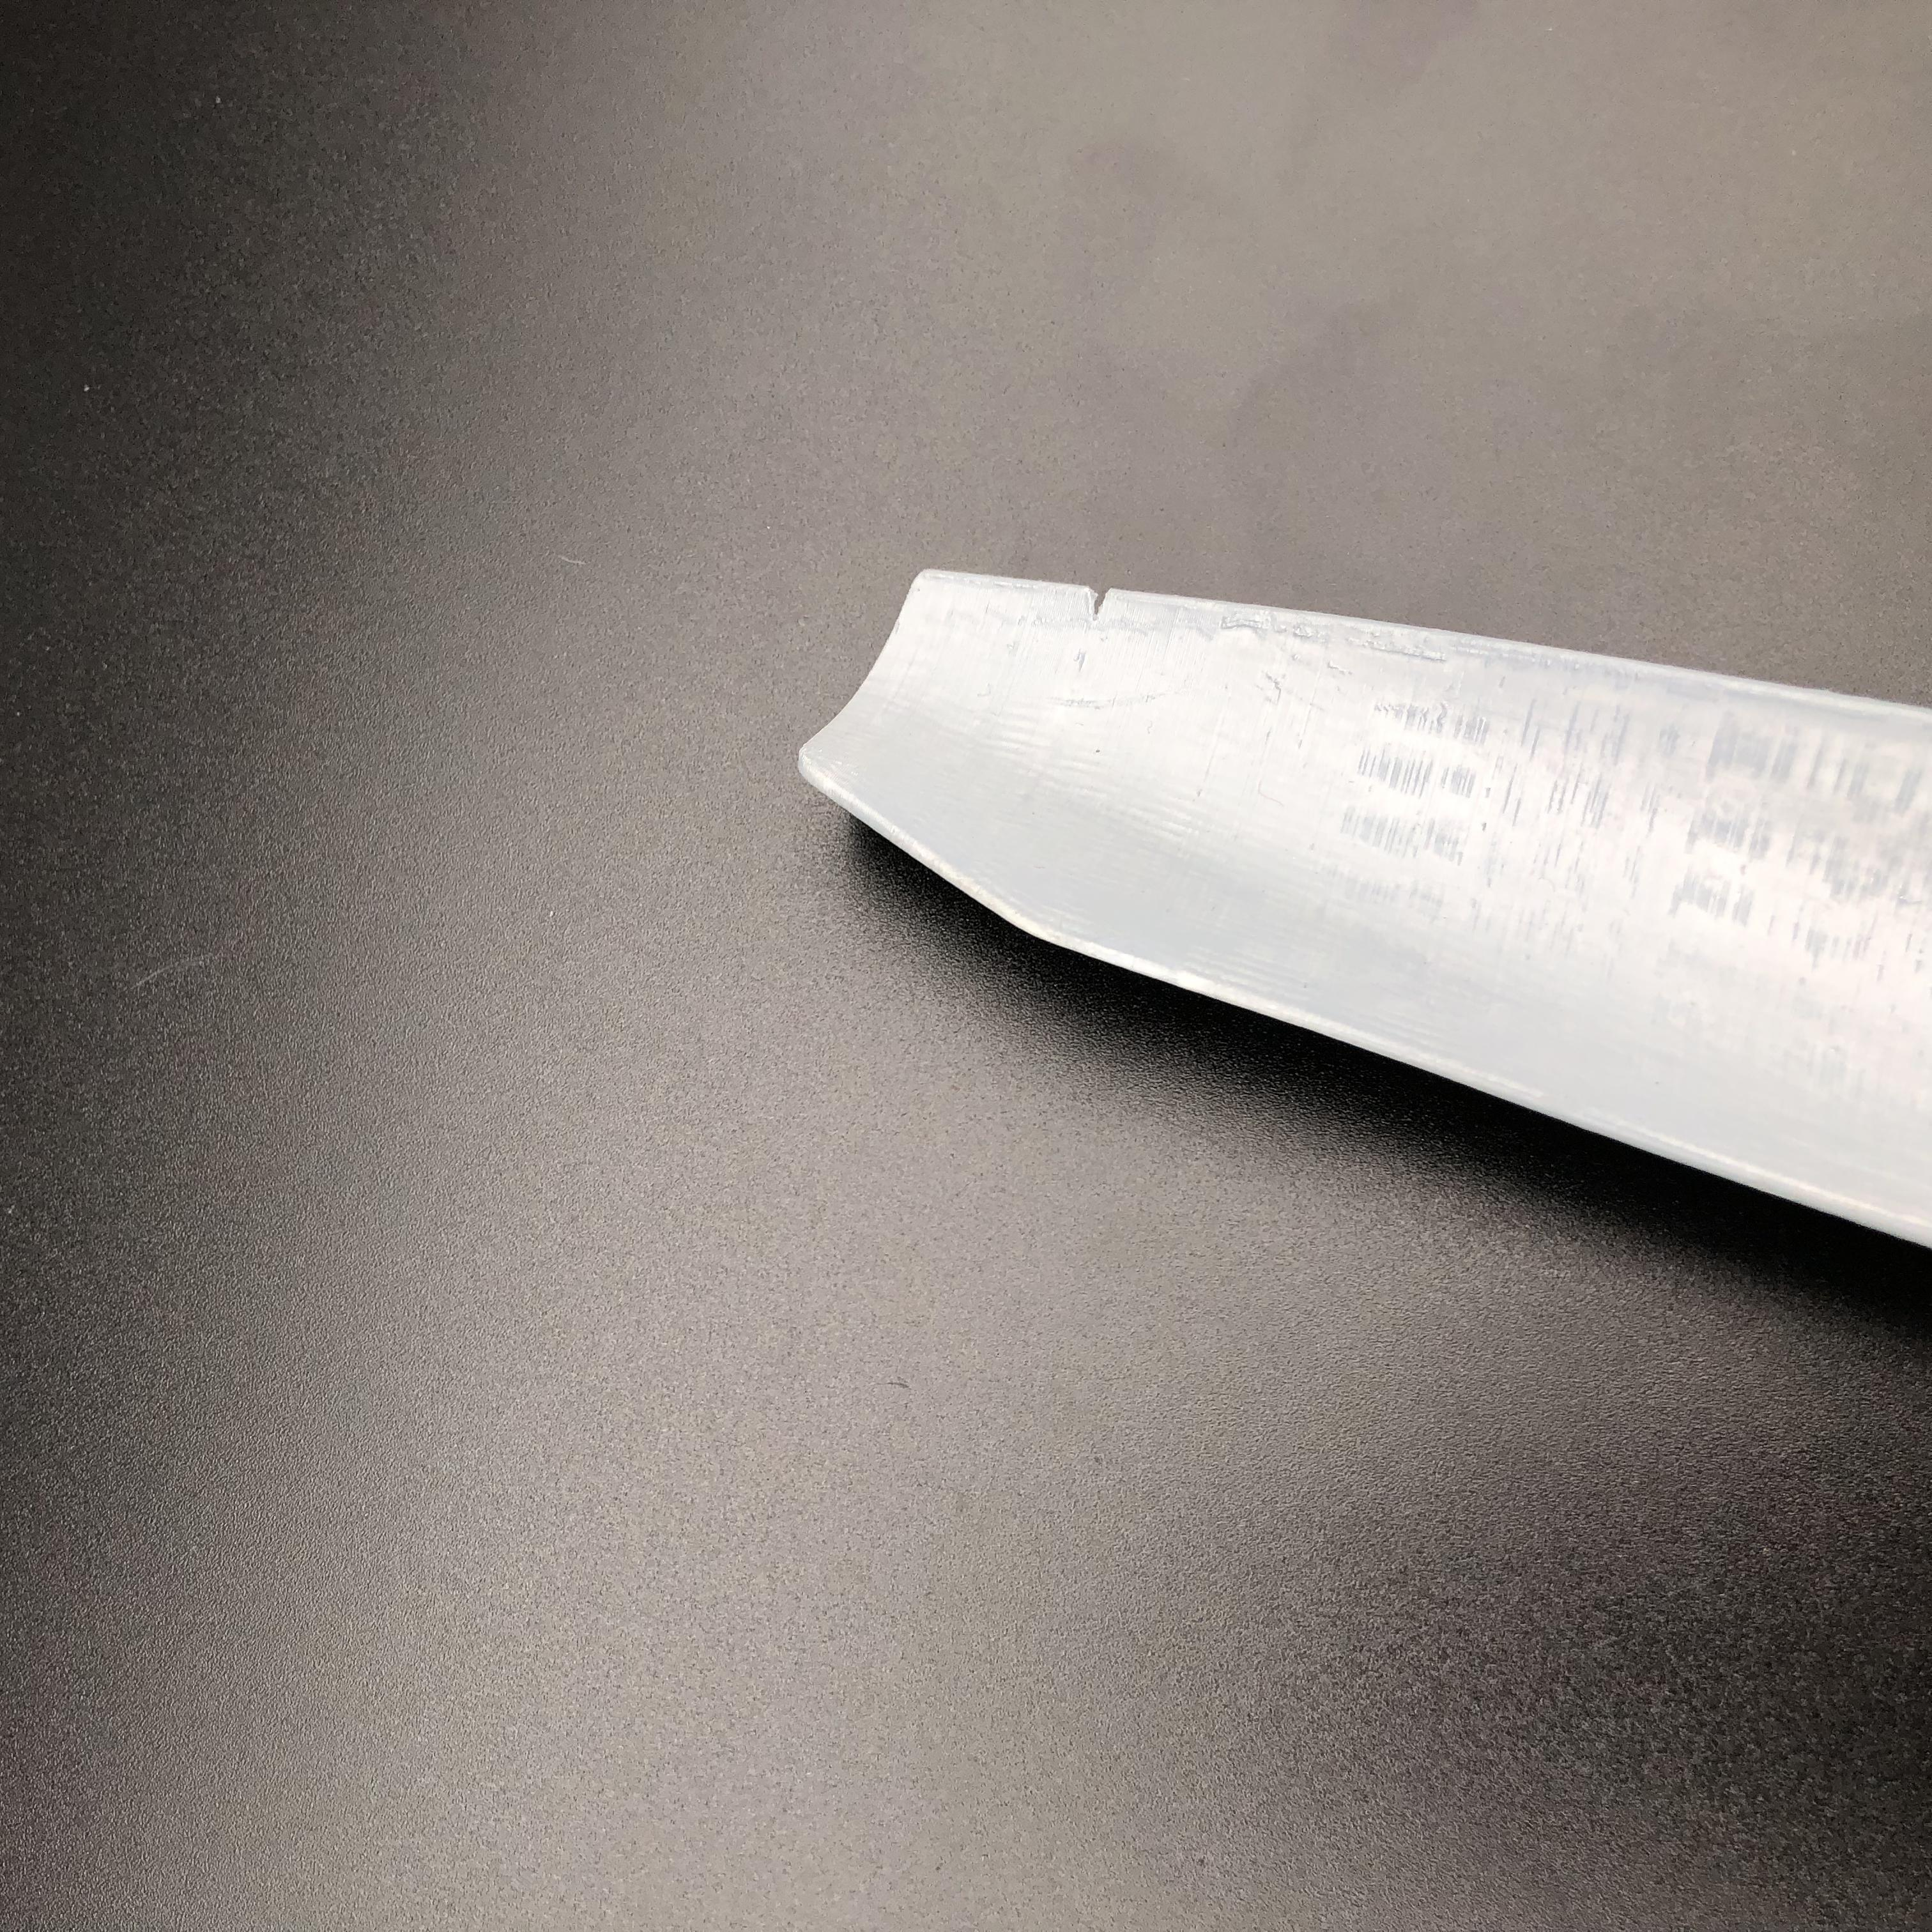groove: (1070, 580, 1131, 621)
